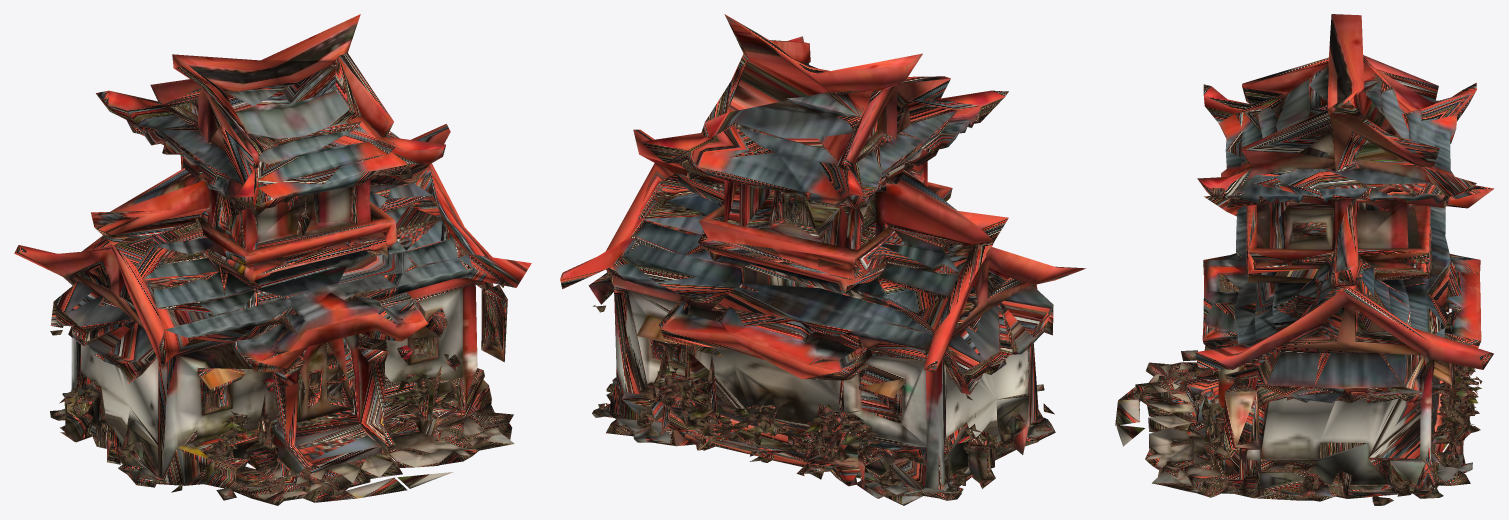
The model's file is bq_teahouse.lod1.glb.
The picture shows the model from 3 angles, left to right: view 1: azimuth 30°, elevation 25°; view 2: azimuth 150°, elevation 25°; view 3: azimuth 270°, elevation 25°; orthographic projection. The views are drawn at different scales.
Size of the model in its own units: 1.89 by 1.77 by 1.69.
1 material, 1 textured.
